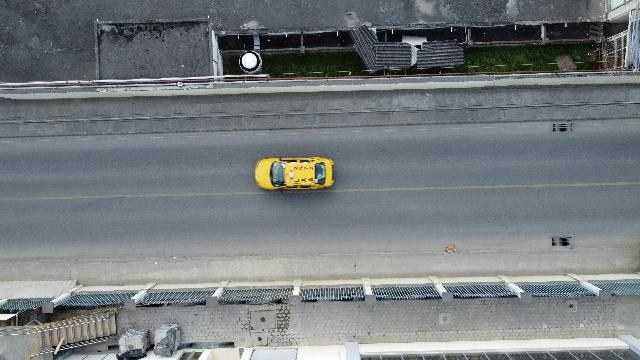Vehiculo: (254, 156, 334, 192)
